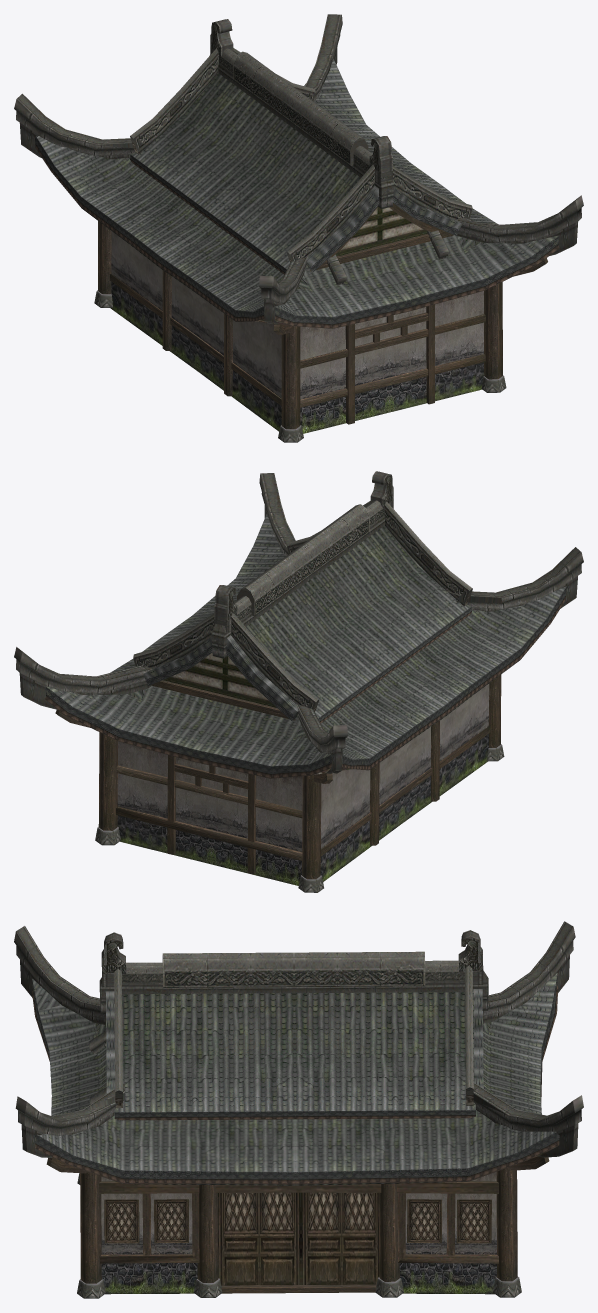
Rendered from wlf_fangzi01_w.FBX.
3 views of the same model, one above another, from view 1: azimuth 30°, elevation 25°; view 2: azimuth 150°, elevation 25°; view 3: azimuth 270°, elevation 25° (orthographic). The views are drawn at different scales.
Parts seen in each view (by area): view 1: wlf_fangzi01_w; view 2: wlf_fangzi01_w; view 3: wlf_fangzi01_w.
Part boxes in pixels (x1=…): wlf_fangzi01_w: x1=14, y1=14, x2=583, y2=442; wlf_fangzi01_w: x1=14, y1=471, x2=583, y2=892; wlf_fangzi01_w: x1=14, y1=921, x2=583, y2=1298.
Size of the model in its own units: 101 by 78.47 by 133.
